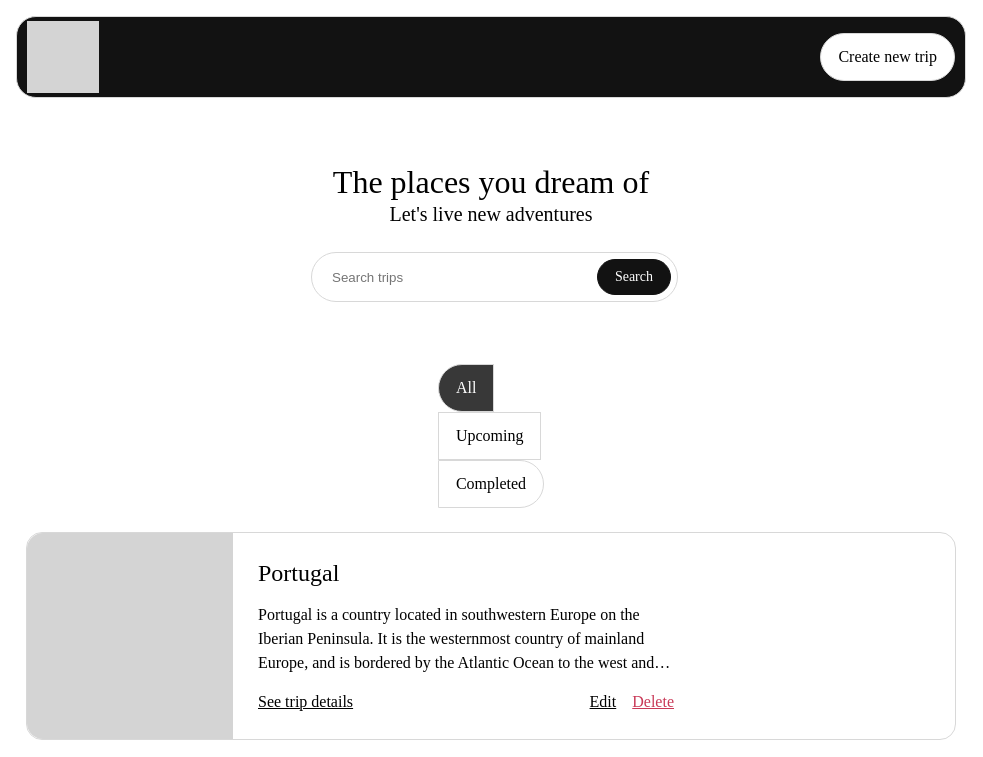
Landing › deleted a card
Expected: the text "Portugal" is shown, [258, 560, 339, 586]
Step 1. Click the button "Delete" → (653, 702), box [632, 690, 674, 714]
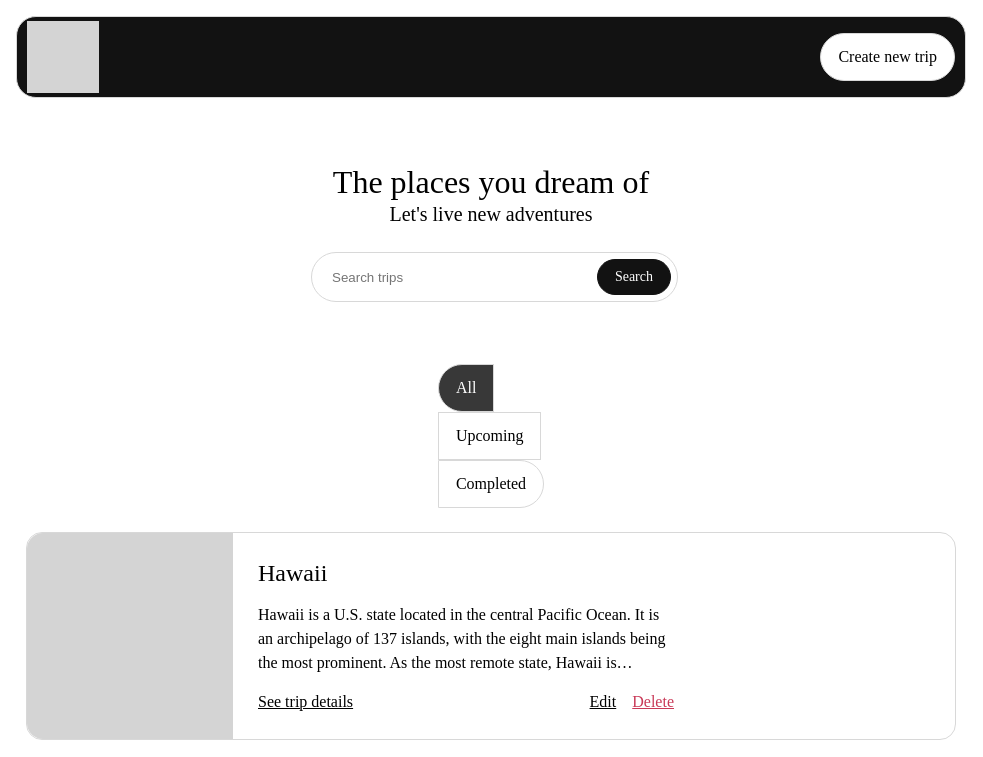
Expected: the text "Portugal" is gone
